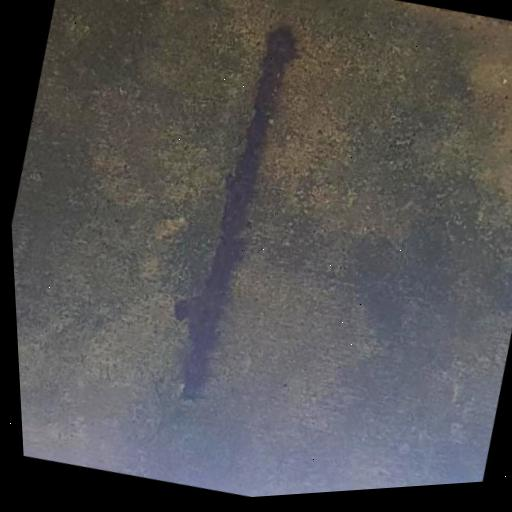exposed_rebar: (175, 25, 297, 400)
